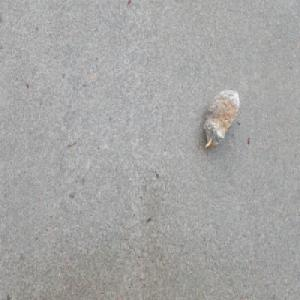Rock: (202, 87, 241, 151)
